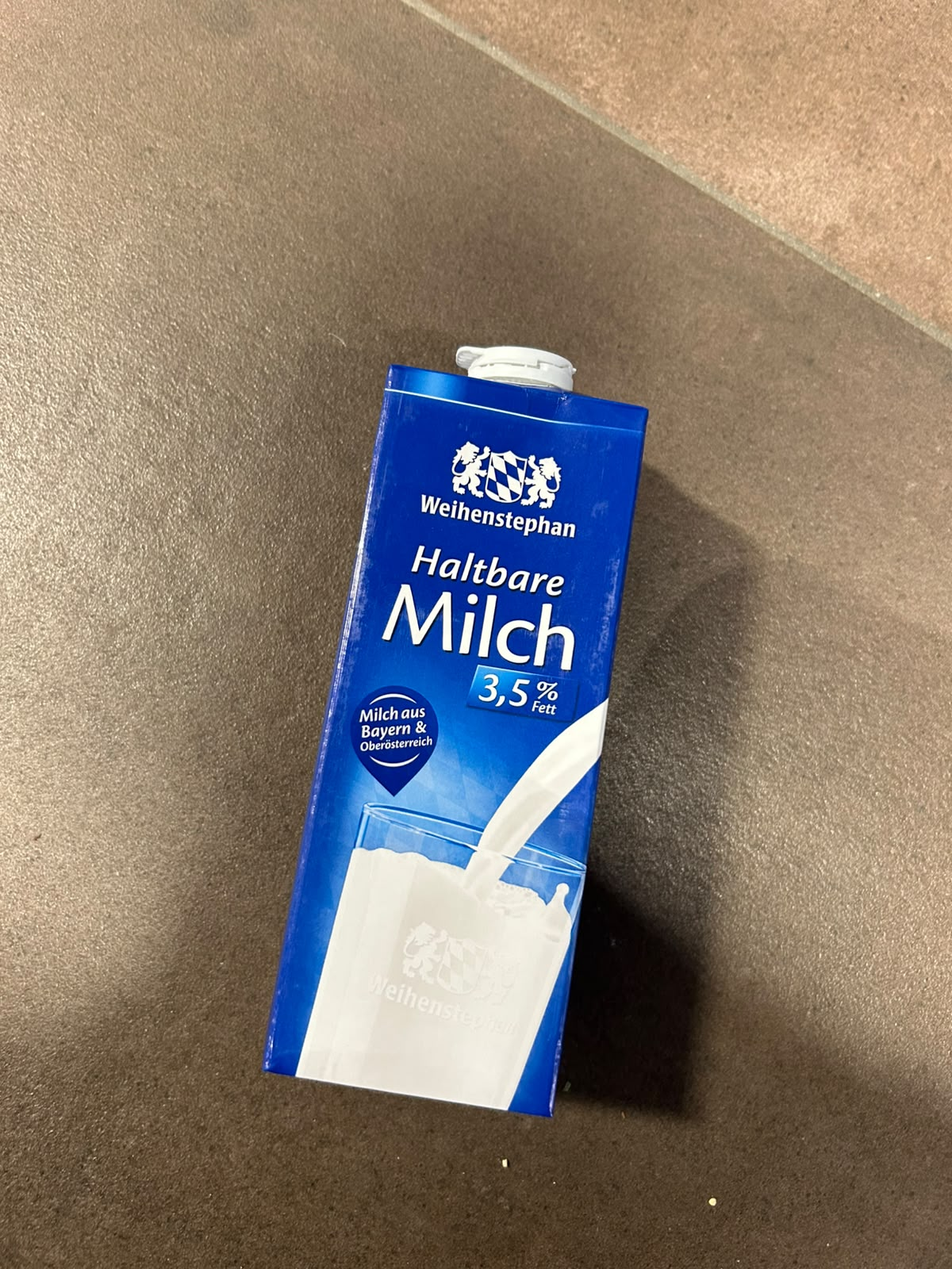carton: (244, 321, 661, 1130)
